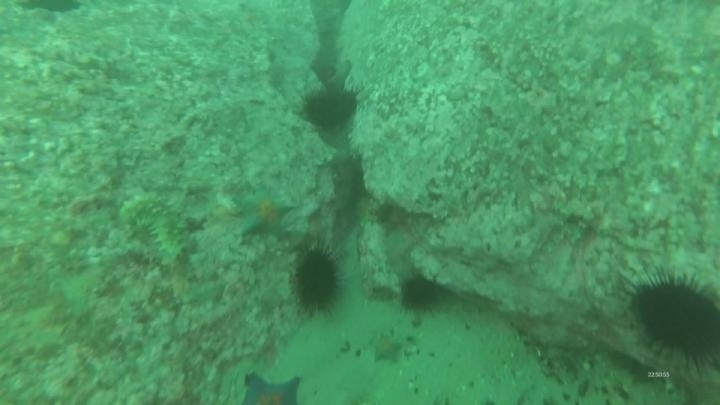echinus: (626, 269, 720, 371), (289, 245, 345, 315), (301, 90, 348, 132), (398, 273, 443, 314), (325, 86, 361, 127)
holothurian: (119, 193, 189, 267)
starfish: (233, 185, 296, 241), (238, 371, 306, 403), (368, 331, 405, 366)
